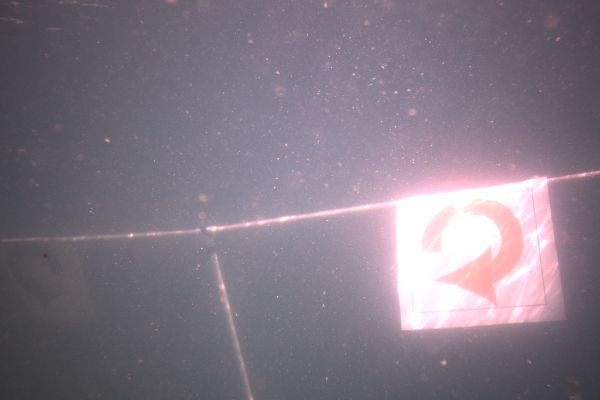gate: (0, 168, 600, 400)
gate_bleue: (3, 239, 95, 324)
gate_rouge: (397, 178, 565, 330)
